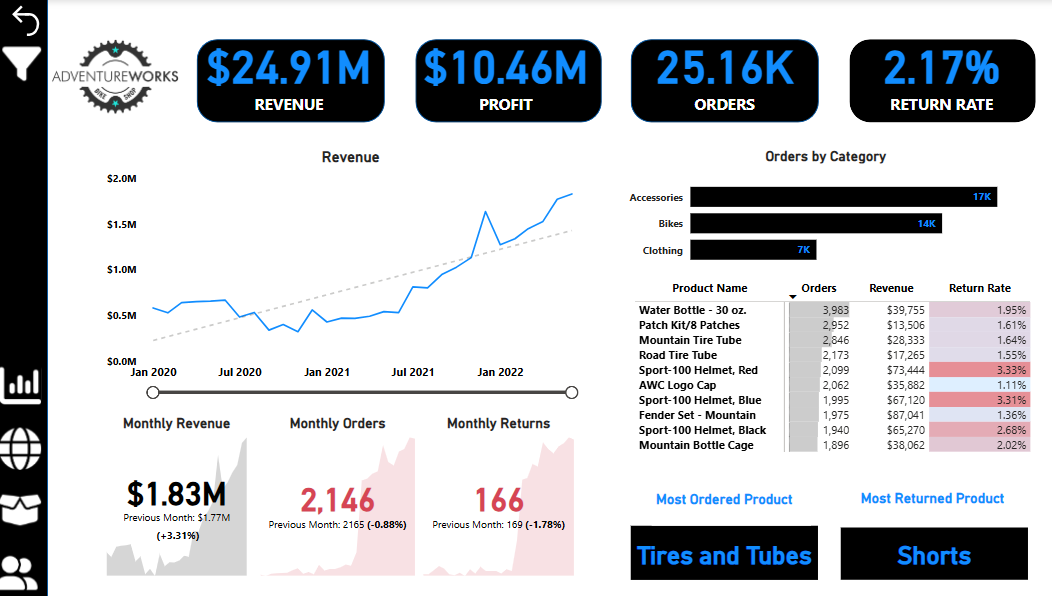

The page's visual inventory and layout, read from the dashboard file:
{"tool":"powerbi","page":{"name":"Exec Dashboard","canvas":[1280,720],"ordinal":0},"visuals":[{"type":"image","title":"Logo","box":[50,0,195.7,187],"z":0},{"type":"card","fields":{"Values":["Measures Table.Total Revenue"]},"box":[252.6,25.3,208.3,124.2],"z":0,"group":"g2"},{"type":"group","id":"g1","title":"KPIs","box":[245.7,47.9,1008.7,100],"z":0,"group":"g3"},{"type":"shape","box":[245.7,47.9,226.1,100],"z":0,"group":"g1"},{"type":"actionButton","box":[4.2,435.6,63.1,58.9],"z":0,"group":"g4"},{"type":"shape","title":"Navigation","box":[0,0,67.3,719.7],"z":1000},{"type":"group","id":"g2","title":"KPI Values","box":[252.6,25.3,993.3,124.2],"z":1000,"group":"g3"},{"type":"card","fields":{"Values":["Measures Table.Total Profit"]},"box":[514.2,25.3,208.3,124.2],"z":1000,"group":"g2"},{"type":"shape","box":[508,47.9,223.9,100],"z":1000,"group":"g1"},{"type":"actionButton","box":[4.2,585,63.1,58.9],"z":1000,"group":"g4"},{"type":"group","id":"g3","title":"KPIs","box":[245.7,25.3,1008.7,124.2],"z":2000},{"type":"card","fields":{"Values":["Measures Table.Total Orders"]},"box":[775.9,25.3,208.3,124.2],"z":2000,"group":"g2"},{"type":"shape","box":[768.2,47.9,226.1,100],"z":2000,"group":"g1"},{"type":"actionButton","box":[0,660.8,63.1,58.9],"z":2000,"group":"g4"},{"type":"card","fields":{"Values":["Measures Table.Return Rate"]},"box":[1037.5,25.3,208.3,124.2],"z":3000,"group":"g2"},{"type":"shape","box":[1030.5,47.9,223.9,100],"z":3000,"group":"g1"},{"type":"lineChart","title":"Revenue","fields":{"Y":["Measures Table.Total Revenue"],"Category":["Calendar Lookup.Date.Variation.Date Hierarchy.Year","Calendar Lookup.Date.Variation.Date Hierarchy.Quarter","Calendar Lookup.Date.Variation.Date Hierarchy.Month"]},"box":[132.6,178.9,597.6,305.1],"z":3000},{"type":"actionButton","box":[4.2,511.4,63.1,58.9],"z":3000,"group":"g4"},{"type":"kpi","title":"Monthly Revenue","fields":{"Indicator":["Measures Table.Total Revenue"],"TrendLine":["Calendar Lookup.Date Hierarchy.Start of Month"],"Goal":["Measures Table.Previous Month Revenue"]},"box":[132.6,500.8,178.9,197.8],"z":4000},{"type":"kpi","title":"Monthly Returns","fields":{"TrendLine":["Calendar Lookup.Date Hierarchy.Start of Month"],"Indicator":["Measures Table.Total Return"],"Goal":["Measures Table.Previous Month Returns"]},"box":[513.5,500.8,191.5,197.8],"z":5000},{"type":"kpi","title":"Monthly Orders","fields":{"TrendLine":["Calendar Lookup.Date Hierarchy.Start of Month"],"Indicator":["Measures Table.Total Orders"],"Goal":["Measures Table.Previous Month Orders"]},"box":[317.8,500.8,195.7,197.8],"z":6000},{"type":"barChart","title":"Orders by Category","fields":{"Category":["Product Categories Lookup.CategoryName"],"Y":["Measures Table.Total Orders"]},"box":[759.7,178.9,486.1,153.6],"z":7000},{"type":"pivotTable","fields":{"Rows":["Product Lookup.ProductName"],"Values":["Measures Table.Total Orders","Measures Table.Total Revenue","Measures Table.Return Rate"]},"box":[768.1,332.5,486.1,233.6],"z":8000},{"type":"card","title":"Most Sold","fields":{"Values":["Min(Product Subcategories Lookup.SubcategoryName)"]},"box":[768.1,633.4,225.2,65.2],"z":9000},{"type":"card","fields":{"Values":["Min(Product Subcategories Lookup.SubcategoryName)"]},"box":[1020.6,635.5,225.2,63.1],"z":10000},{"type":"textbox","box":[793.4,587.1,191.5,46.3],"z":11000},{"type":"textbox","box":[1039.6,585,191.5,48.4],"z":12000},{"type":"actionButton","box":[16.7,2.1,50,47.9],"z":13000},{"type":"group","id":"g4","title":"Navigation Buttons","box":[0,435.6,67.3,284.1],"z":14000},{"type":"actionButton","box":[8.4,50.5,67.3,54.7],"z":15000}]}

Visuals, with their boxes on the page's 1280x720 design canvas (x1, y1, x2, y2). These are canvas units, not pixel positions in the 1052x596 screenshot, which may show the page scaled, cropped or inside an application window:
"Logo" image: locate(50, 0, 246, 187)
card - Measures Table.Total Revenue: locate(253, 25, 461, 150)
"KPIs" group: locate(246, 48, 1254, 148)
shape: locate(246, 48, 472, 148)
actionButton: locate(4, 436, 67, 494)
"Navigation" shape: locate(0, 0, 67, 720)
"KPI Values" group: locate(253, 25, 1246, 150)
card - Measures Table.Total Profit: locate(514, 25, 722, 150)
shape: locate(508, 48, 732, 148)
actionButton: locate(4, 585, 67, 644)
"KPIs" group: locate(246, 25, 1254, 150)
card - Measures Table.Total Orders: locate(776, 25, 984, 150)
shape: locate(768, 48, 994, 148)
actionButton: locate(0, 661, 63, 720)
card - Measures Table.Return Rate: locate(1038, 25, 1246, 150)
shape: locate(1030, 48, 1254, 148)
"Revenue" lineChart: locate(133, 179, 730, 484)
actionButton: locate(4, 511, 67, 570)
"Monthly Revenue" kpi: locate(133, 501, 312, 699)
"Monthly Returns" kpi: locate(514, 501, 705, 699)
"Monthly Orders" kpi: locate(318, 501, 514, 699)
"Orders by Category" barChart: locate(760, 179, 1246, 332)
pivotTable - Product Lookup.ProductName x Measures Table.Total Orders: locate(768, 332, 1254, 566)
"Most Sold" card: locate(768, 633, 993, 699)
card - Min(Product Subcategories Lookup.SubcategoryName): locate(1021, 636, 1246, 699)
textbox: locate(793, 587, 985, 633)
textbox: locate(1040, 585, 1231, 633)
actionButton: locate(17, 2, 67, 50)
"Navigation Buttons" group: locate(0, 436, 67, 720)
actionButton: locate(8, 50, 76, 105)
